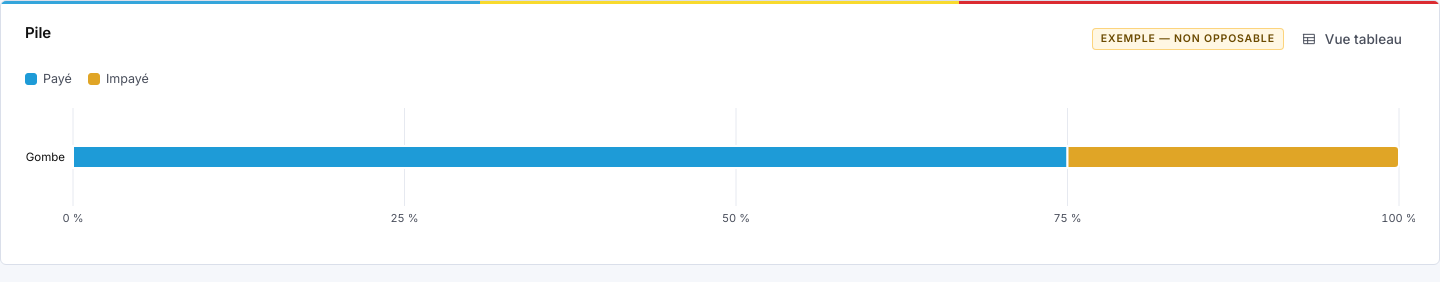
graphiques cartésiens › StackedBarViz : parts à 100 % dans la vue tableau, légende, mention EXEMPLE
The image size is (1440, 282).
Expected: the text "EXEMPLE — non opposable" is shown, left=1092, top=28, right=1284, bottom=50
Expected: the list items read "Payé", "Impayé", in this order, left=25, top=69, right=72, bottom=88; left=88, top=69, right=149, bottom=88
Click the button "Vue tableau".
click(1351, 39)  # box left=1288, top=21, right=1415, bottom=57
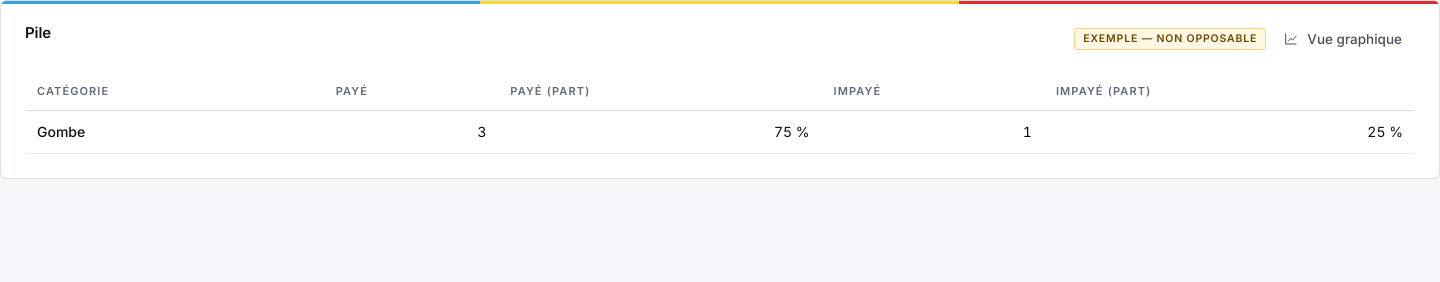
Result: the row "Gombe 3 75 % 1 25 %" is shown at left=25, top=111, right=1415, bottom=153
